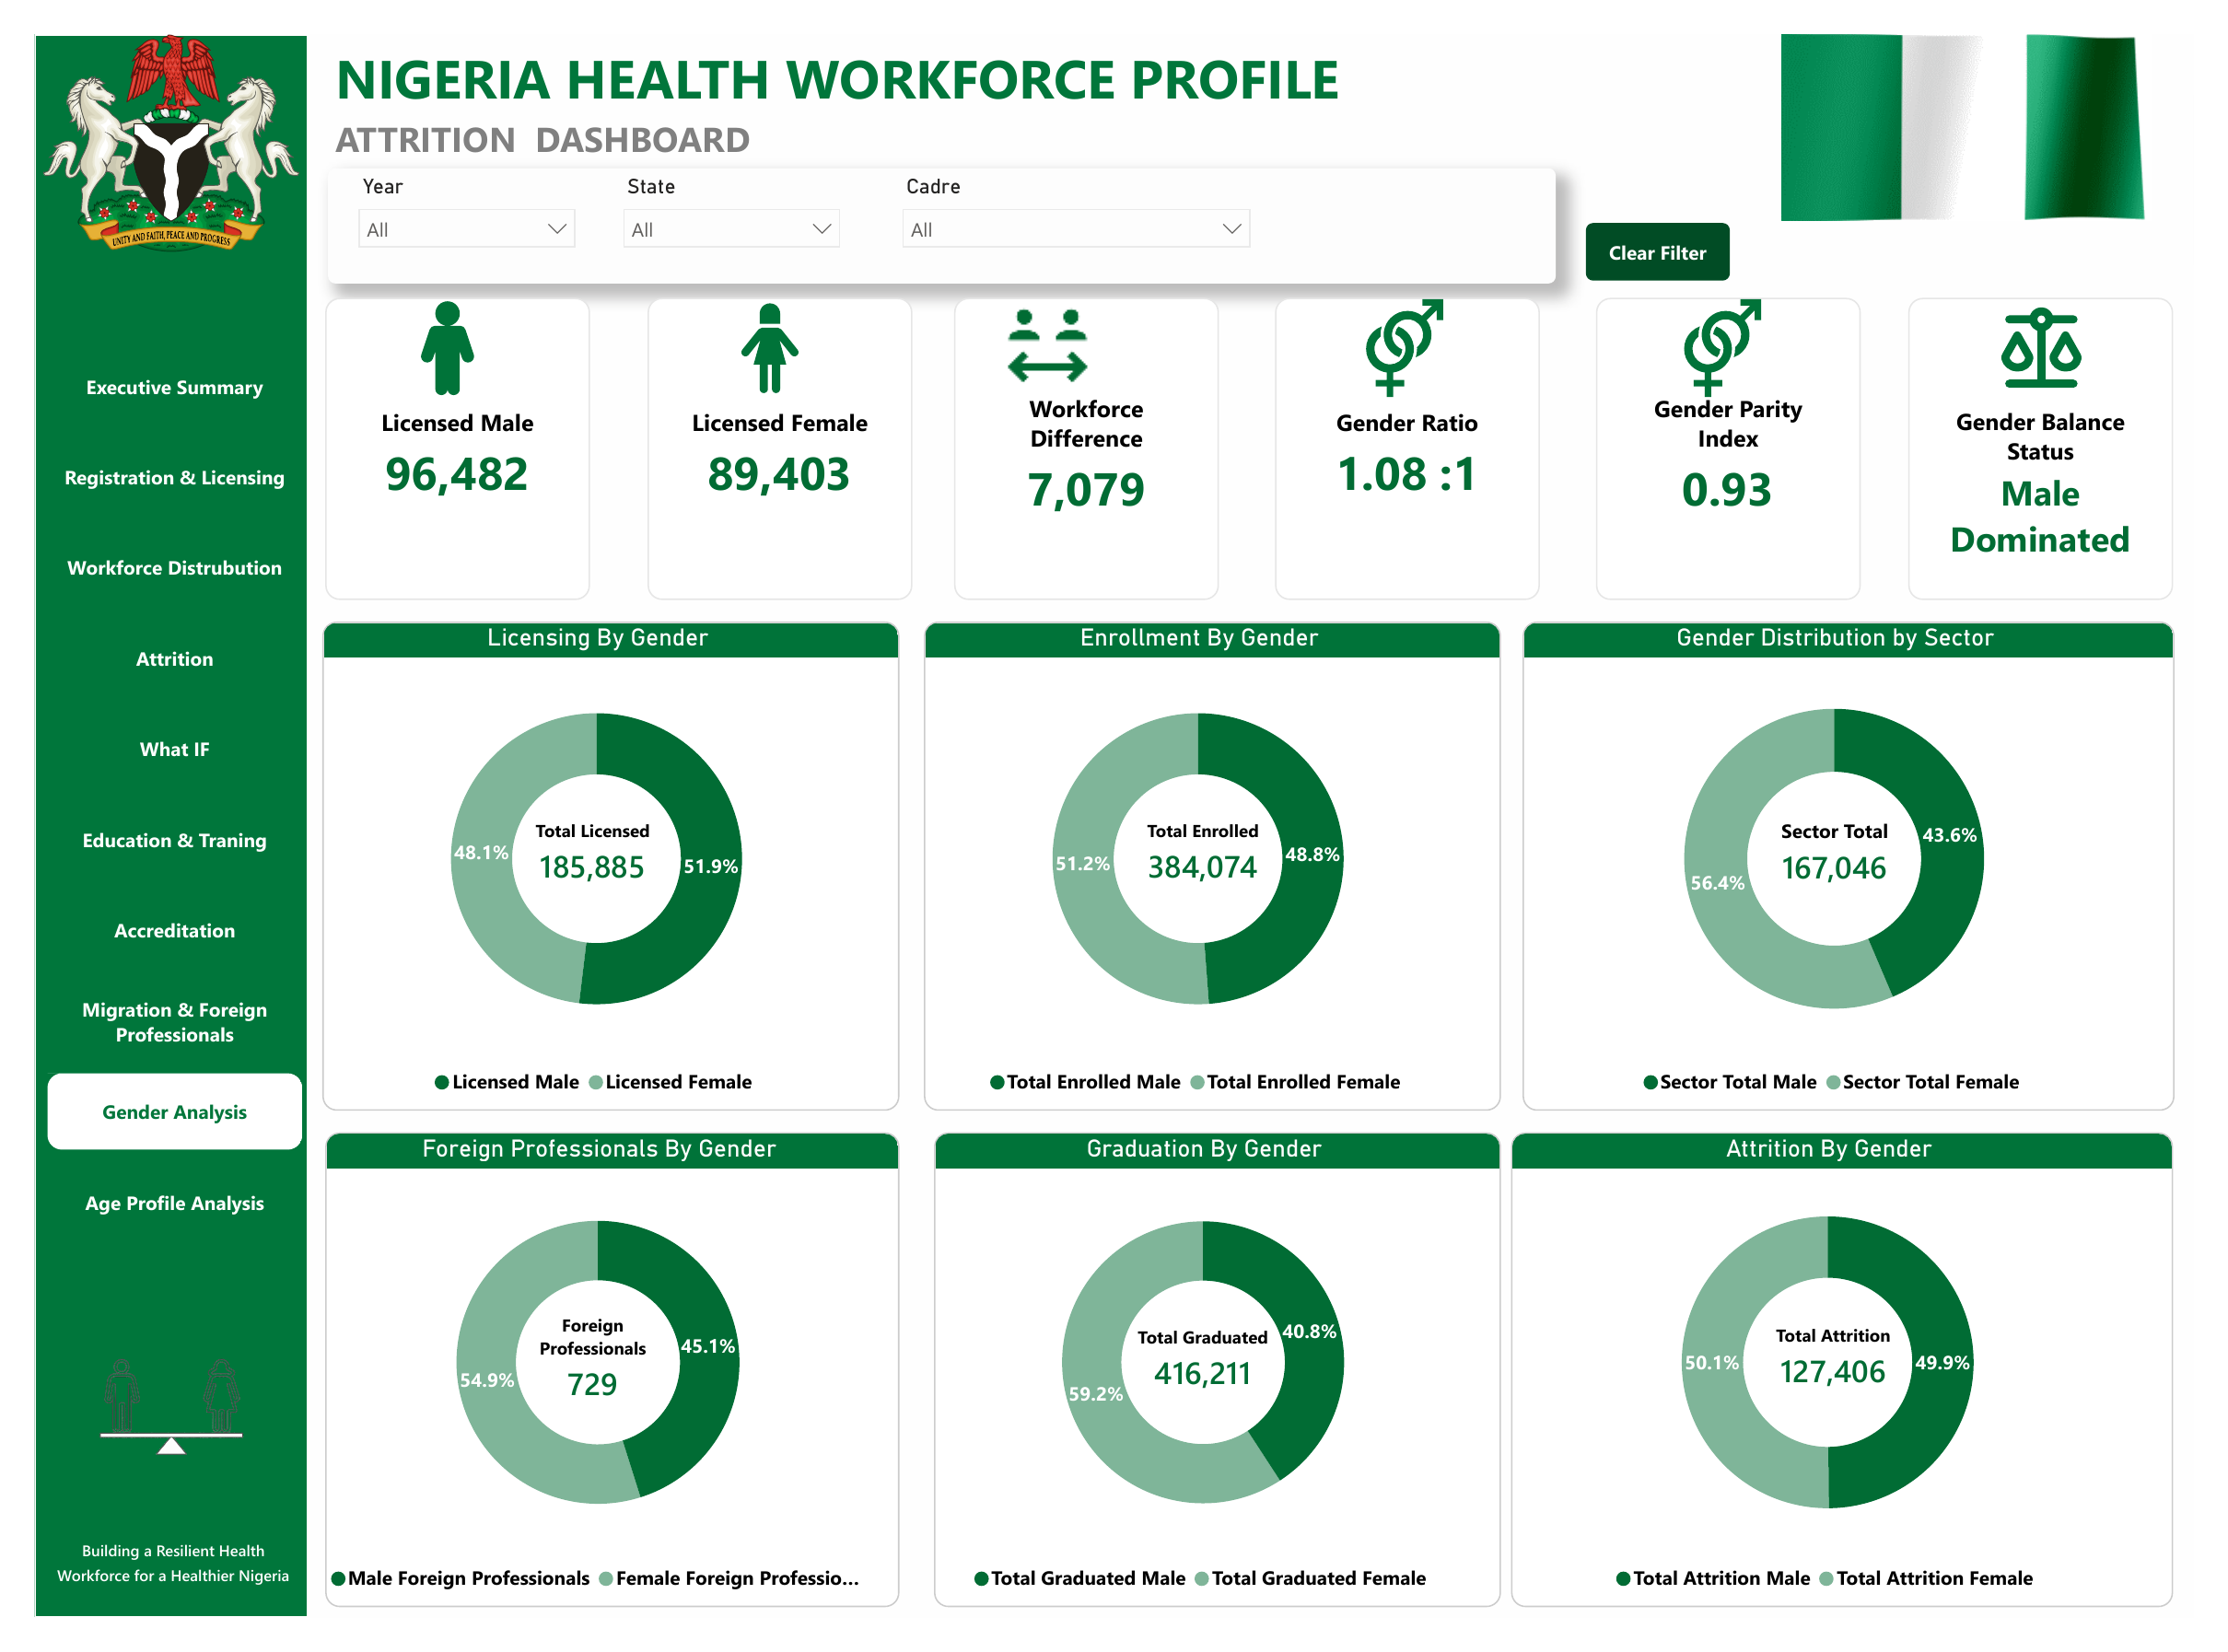

What the dashboard file says about the page in this screenshot:
{"tool":"powerbi","page":{"name":"Gender Analysis","canvas":[1500,1100],"ordinal":9},"visuals":[{"type":"shape","box":[0,0,1499.5,1100],"z":0},{"type":"shape","box":[0,0,190,1100],"z":1000},{"type":"image","box":[0,880,190,152],"z":2000},{"type":"textbox","box":[6,1039,184,61],"z":3000},{"type":"image","box":[0,0,189.9,151.3],"z":4000},{"type":"textbox","box":[204.2,0,729.9,75.2],"z":5000},{"type":"textbox","box":[204,51,530,58],"z":6000},{"type":"shape","box":[204.2,93.1,852.5,79.7],"z":7000},{"type":"slicer","fields":{"Values":["Dim Year.Year"]},"box":[214.9,93.1,171,58.2],"z":8000},{"type":"slicer","fields":{"Values":["Dim State.State"]},"box":[398.5,93.1,171,58.2],"z":9000},{"type":"slicer","fields":{"Values":["Dim Cadre.Cadre"]},"box":[592.8,93.1,262.4,58.2],"z":10000},{"type":"actionButton","box":[1078,131,100,40],"z":11000},{"type":"group","id":"g1","title":"Group 1","box":[202,183,184,210],"z":12000},{"type":"group","id":"g2","title":"Group 1","box":[1302.5,183.3,184.7,209.3],"z":13000},{"type":"shape","box":[202,183,184,210],"z":14000,"group":"g1"},{"type":"shape","box":[425.9,183.3,184,210],"z":14000,"group":"g3"},{"type":"shape","box":[639.3,183.3,184,210],"z":14000,"group":"g6"},{"type":"shape","box":[862.3,183.3,184,210],"z":14000,"group":"g4"},{"type":"shape","box":[1085.3,183.3,184,210],"z":14000,"group":"g5"},{"type":"shape","box":[1302.5,183.3,184,210],"z":14000,"group":"g2"},{"type":"donutChart","title":"Gender Distribution by Sector","fields":{"Y":["DAX.Sector Total Male","DAX.Sector Total Female"]},"box":[1034.3,407.7,452.9,340.7],"z":14000},{"type":"group","id":"g3","title":"Group 1","box":[425.9,183.3,183.3,210.7],"z":15000},{"type":"group","id":"g4","title":"Group 1","box":[862.3,183.3,184,210],"z":16000},{"type":"group","id":"g5","title":"Group 1","box":[1085.3,183.3,184,210],"z":17000},{"type":"group","id":"g6","title":"Group 1","box":[639.3,183.3,184,210],"z":18000},{"type":"donutChart","title":"Attrition By Gender ","fields":{"Y":["DAX.Total Attrition Male","DAX.Total Attrition Female"]},"box":[1026.1,763.4,459.7,329.7],"z":19000},{"type":"donutChart","title":"Enrollment By Gender ","fields":{"Y":["DAX.Total Enrolled Male","DAX.Total Enrolled Female"]},"box":[618,408,401,340],"z":20000},{"type":"cardVisual","fields":{"Data":["DAX.Sector Total"]},"box":[1162.9,478.9,176.5,177.9],"z":21000},{"type":"cardVisual","fields":{"Data":["DAX.Total Enrolled"]},"box":[724,479,176,178],"z":22000},{"type":"cardVisual","fields":{"Data":["DAX.Total Attrition"]},"box":[1161.6,830.5,176.5,177.9],"z":23000},{"type":"donutChart","title":"Licensing By Gender ","fields":{"Y":["DAX.Licensed Male","DAX.Licensed Female"]},"box":[200,408,401,340],"z":24000},{"type":"cardVisual","fields":{"Data":["DAX.Total Licensed"]},"box":[300,479,176,178],"z":25000},{"type":"donutChart","title":"Foreign Professionals By Gender ","fields":{"Y":["DAX.Male Foreign Professionals","DAX.Female Foreign Professionals"]},"box":[202,763,399,330],"z":26000},{"type":"donutChart","title":"Graduation By Gender ","fields":{"Y":["DAX.Total Graduated Male","DAX.Total Graduated Female"]},"box":[625,763,394,330],"z":27000},{"type":"cardVisual","fields":{"Data":["DAX.Licensed Male"]},"box":[202,231,184,122],"z":28000,"group":"g1"},{"type":"cardVisual","fields":{"Data":["DAX.Licensed Female"]},"box":[425.9,231.3,184,122],"z":28000,"group":"g3"},{"type":"cardVisual","fields":{"Data":["DAX.Workforce Difference"]},"box":[639.3,231.3,184,122],"z":28000,"group":"g6"},{"type":"cardVisual","fields":{"Data":["DAX.Gender Ratio Display"]},"box":[862.3,231.3,184,122],"z":28000,"group":"g4"},{"type":"cardVisual","fields":{"Data":["DAX.Gender Parity Index"]},"box":[1085.3,231.3,184,122],"z":28000,"group":"g5"},{"type":"cardVisual","fields":{"Data":["DAX.Gender Balance Status"]},"box":[1302.5,231.3,184,161],"z":28000,"group":"g2"},{"type":"cardVisual","fields":{"Data":["DAX.Foreign Professionals"]},"box":[300,831,176,178],"z":28000},{"type":"image","box":[667.7,183.3,72.5,67],"z":29000},{"type":"image","box":[250,184,73,68],"z":29000,"group":"g1"},{"type":"image","box":[473.9,184.3,73,68],"z":29000,"group":"g3"},{"type":"image","box":[915.3,184.3,73,68],"z":29000,"group":"g4"},{"type":"image","box":[1136.3,184.3,73,68],"z":29000,"group":"g5"},{"type":"image","box":[1358.6,184.7,72.5,67],"z":29000,"group":"g2"},{"type":"cardVisual","fields":{"Data":["DAX.Total Graduated"]},"box":[724,831,176,178],"z":30000},{"type":"image","box":[1198.5,0,287.3,128.6],"z":31000},{"type":"pageNavigator","box":[9.1,218.2,177.3,621.8],"z":32000}]}

Visuals, with their boxes on the page's 1500x1100 design canvas (x1, y1, x2, y2). These are canvas units, not pixel positions in the 2228x1652 screenshot, which may show the page scaled, cropped or inside an application window:
shape: (x1=0, y1=0, x2=1500, y2=1100)
shape: (x1=0, y1=0, x2=190, y2=1100)
image: (x1=0, y1=880, x2=190, y2=1032)
textbox: (x1=6, y1=1039, x2=190, y2=1100)
image: (x1=0, y1=0, x2=190, y2=151)
textbox: (x1=204, y1=0, x2=934, y2=75)
textbox: (x1=204, y1=51, x2=734, y2=109)
shape: (x1=204, y1=93, x2=1057, y2=173)
slicer - Dim Year.Year: (x1=215, y1=93, x2=386, y2=151)
slicer - Dim State.State: (x1=398, y1=93, x2=570, y2=151)
slicer - Dim Cadre.Cadre: (x1=593, y1=93, x2=855, y2=151)
actionButton: (x1=1078, y1=131, x2=1178, y2=171)
"Group 1" group: (x1=202, y1=183, x2=386, y2=393)
"Group 1" group: (x1=1302, y1=183, x2=1487, y2=393)
shape: (x1=202, y1=183, x2=386, y2=393)
shape: (x1=426, y1=183, x2=610, y2=393)
shape: (x1=639, y1=183, x2=823, y2=393)
shape: (x1=862, y1=183, x2=1046, y2=393)
shape: (x1=1085, y1=183, x2=1269, y2=393)
shape: (x1=1302, y1=183, x2=1486, y2=393)
"Gender Distribution by Sector" donutChart: (x1=1034, y1=408, x2=1487, y2=748)
"Group 1" group: (x1=426, y1=183, x2=609, y2=394)
"Group 1" group: (x1=862, y1=183, x2=1046, y2=393)
"Group 1" group: (x1=1085, y1=183, x2=1269, y2=393)
"Group 1" group: (x1=639, y1=183, x2=823, y2=393)
"Attrition By Gender " donutChart: (x1=1026, y1=763, x2=1486, y2=1093)
"Enrollment By Gender " donutChart: (x1=618, y1=408, x2=1019, y2=748)
cardVisual - DAX.Sector Total: (x1=1163, y1=479, x2=1339, y2=657)
cardVisual - DAX.Total Enrolled: (x1=724, y1=479, x2=900, y2=657)
cardVisual - DAX.Total Attrition: (x1=1162, y1=830, x2=1338, y2=1008)
"Licensing By Gender " donutChart: (x1=200, y1=408, x2=601, y2=748)
cardVisual - DAX.Total Licensed: (x1=300, y1=479, x2=476, y2=657)
"Foreign Professionals By Gender " donutChart: (x1=202, y1=763, x2=601, y2=1093)
"Graduation By Gender " donutChart: (x1=625, y1=763, x2=1019, y2=1093)
cardVisual - DAX.Licensed Male: (x1=202, y1=231, x2=386, y2=353)
cardVisual - DAX.Licensed Female: (x1=426, y1=231, x2=610, y2=353)
cardVisual - DAX.Workforce Difference: (x1=639, y1=231, x2=823, y2=353)
cardVisual - DAX.Gender Ratio Display: (x1=862, y1=231, x2=1046, y2=353)
cardVisual - DAX.Gender Parity Index: (x1=1085, y1=231, x2=1269, y2=353)
cardVisual - DAX.Gender Balance Status: (x1=1302, y1=231, x2=1486, y2=392)
cardVisual - DAX.Foreign Professionals: (x1=300, y1=831, x2=476, y2=1009)
image: (x1=668, y1=183, x2=740, y2=250)
image: (x1=250, y1=184, x2=323, y2=252)
image: (x1=474, y1=184, x2=547, y2=252)
image: (x1=915, y1=184, x2=988, y2=252)
image: (x1=1136, y1=184, x2=1209, y2=252)
image: (x1=1359, y1=185, x2=1431, y2=252)
cardVisual - DAX.Total Graduated: (x1=724, y1=831, x2=900, y2=1009)
image: (x1=1198, y1=0, x2=1486, y2=129)
pageNavigator: (x1=9, y1=218, x2=186, y2=840)
